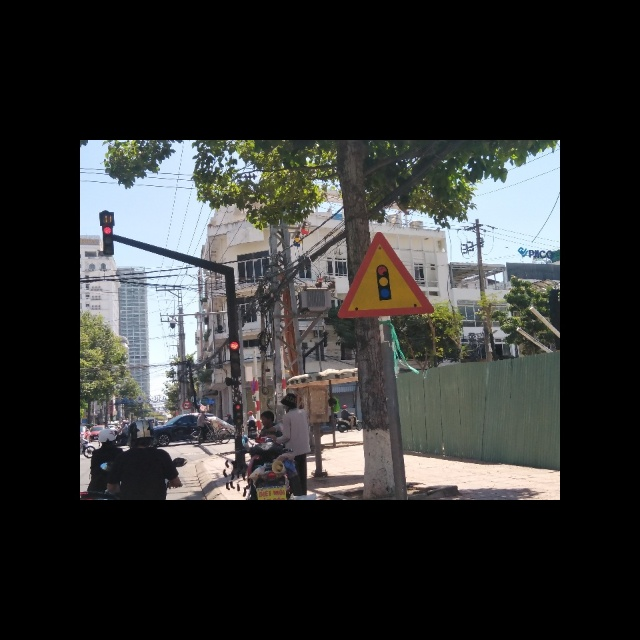Giao nhau có tín hiệu đèn: (338, 229, 438, 322)
Đèn đỏ: (230, 341, 239, 350)
